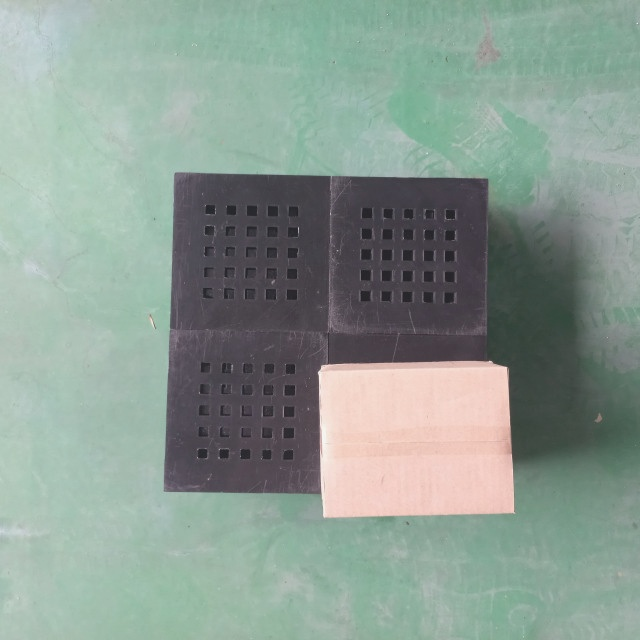box: (318, 358, 516, 519)
pallet: (163, 172, 492, 499)
